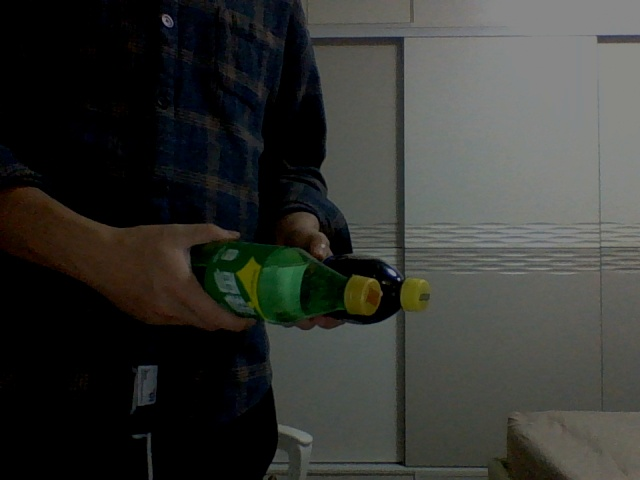Sprite: (190, 243, 382, 324)
